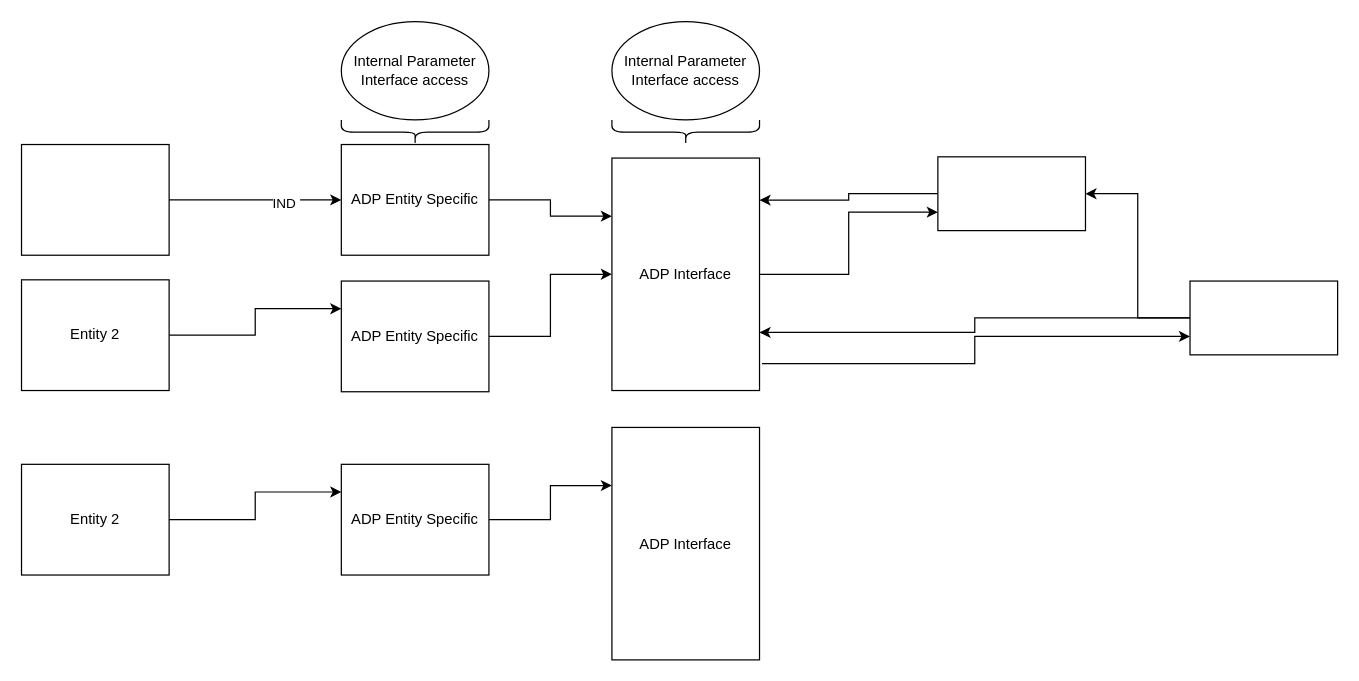
This 1359x681 diagram has some shape labels left out. Here are the shapes that lost their labels. From the top down, the centre of each, then its label:
At pixel 94 199: "Entity 1".
At pixel 1011 193: "AVTP".
At pixel 1263 317: "MAC".
